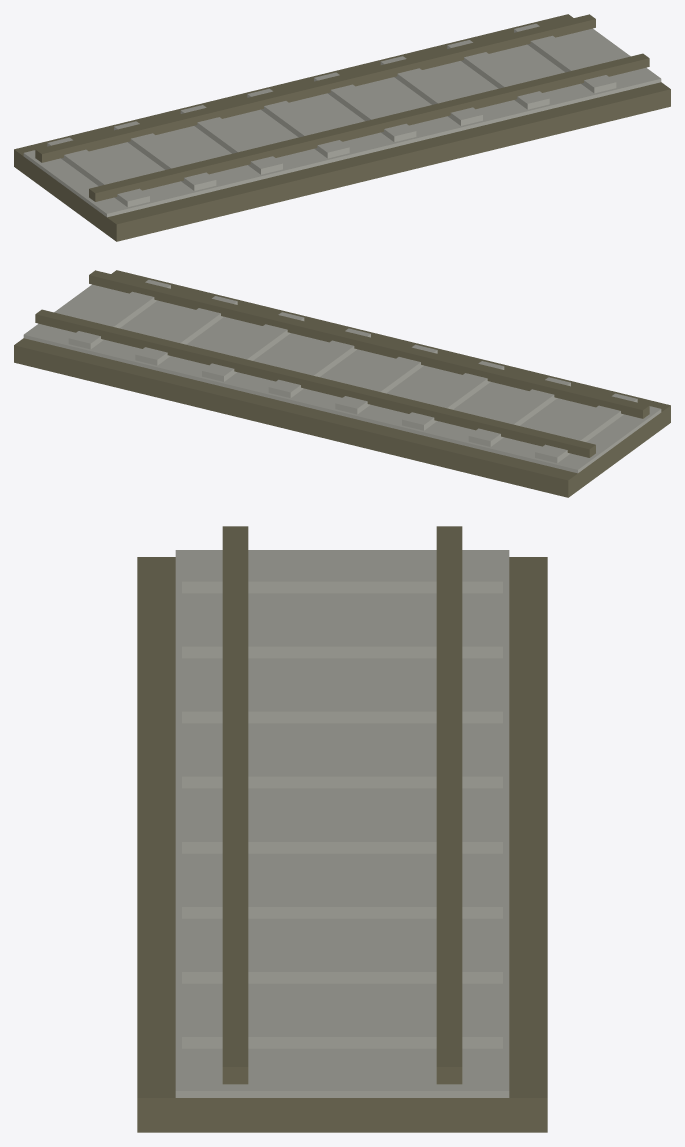
Rendered from SM_KitVia_v0_LOD1.fbx.
The picture shows the model from 3 angles, top to bottom: view 1: azimuth 30°, elevation 25°; view 2: azimuth 150°, elevation 25°; view 3: azimuth 270°, elevation 25°; orthographic projection. The views are drawn at different scales.
Parts seen in each view (by area): view 1: SM_kit_via_v0_LOD1; view 2: SM_kit_via_v0_LOD1; view 3: SM_kit_via_v0_LOD1.
Part boxes in pixels (x1=…): SM_kit_via_v0_LOD1: x1=14, y1=14, x2=670, y2=241; SM_kit_via_v0_LOD1: x1=14, y1=270, x2=670, y2=497; SM_kit_via_v0_LOD1: x1=137, y1=526, x2=547, y2=1132.
Size of the model in its own units: 9.98 by 0.565 by 3.2.
